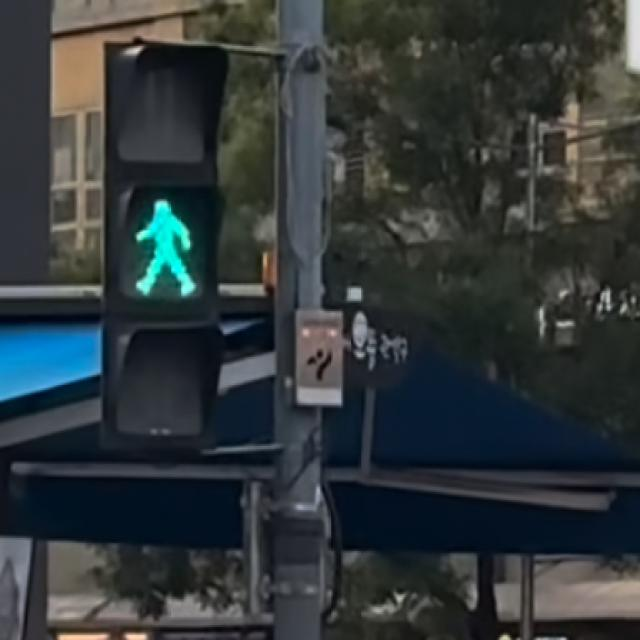green_light: (108, 39, 221, 456)
